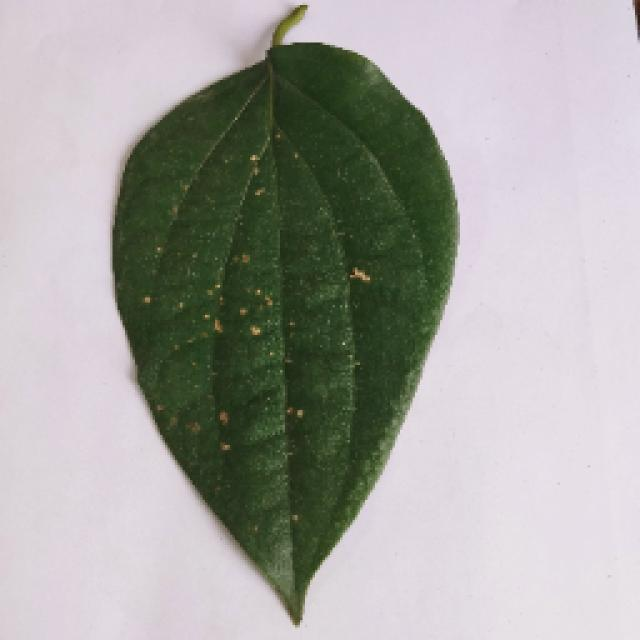pollu-disease: (97, 18, 465, 618)
